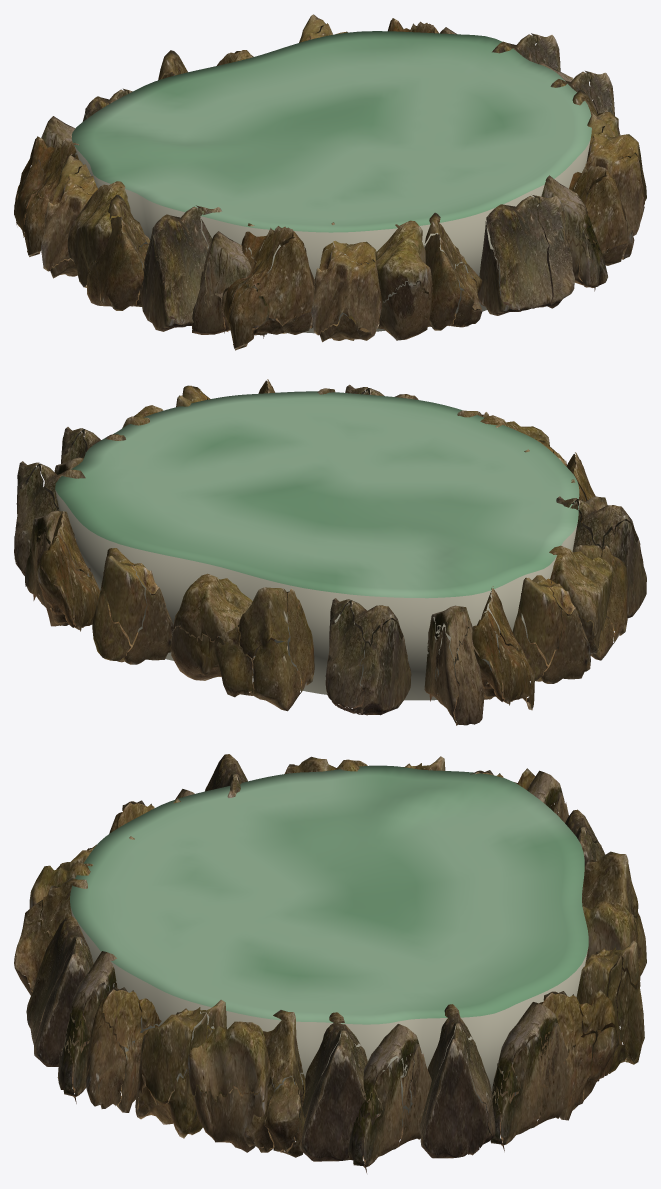
File: sculpted_island_2.glb
The picture shows the model from 3 angles, top to bottom: view 1: azimuth 30°, elevation 25°; view 2: azimuth 150°, elevation 25°; view 3: azimuth 270°, elevation 25°; orthographic projection. The views are drawn at different scales.
Parts seen in each view (by area): view 1: Road_Clearance_Turf, Merged_individual_rock_buttresses; view 2: Road_Clearance_Turf, Merged_individual_rock_buttresses; view 3: Road_Clearance_Turf, Merged_individual_rock_buttresses.
Part boxes in pixels (x1,y1,x2,y2): Road_Clearance_Turf: [71, 31, 591, 333]; Merged_individual_rock_buttresses: [14, 14, 646, 350]; Road_Clearance_Turf: [55, 391, 579, 700]; Merged_individual_rock_buttresses: [14, 379, 646, 725]; Road_Clearance_Turf: [70, 765, 588, 1127]; Merged_individual_rock_buttresses: [14, 754, 646, 1172].
Size of the model in its own units: 28.97 by 6 by 24.54.
Materials: 2 (1 with a texture image).
